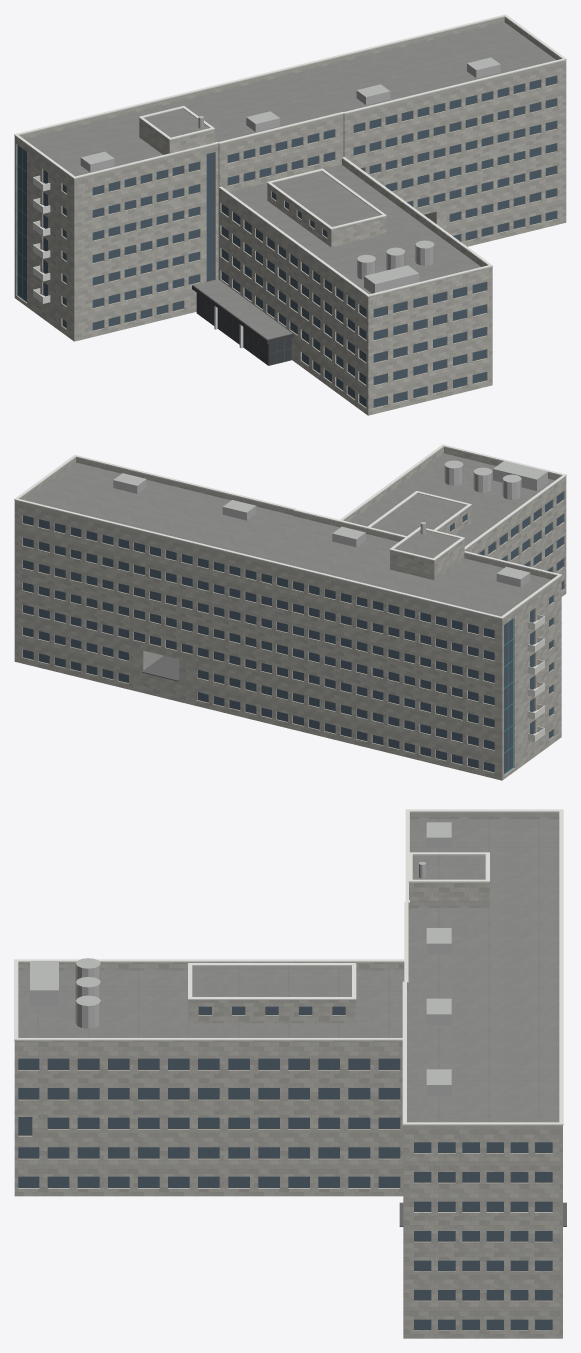
3 views of the same model, one above another, from view 1: azimuth 30°, elevation 25°; view 2: azimuth 150°, elevation 25°; view 3: azimuth 270°, elevation 25° (orthographic). The views are drawn at different scales.
Visible parts, largest first — view 1: engineering__stone, engineering__roof, engineering__glass, engineering__trim, engineering__frame, engineering__plant, engineering__glassLobby, engineering__lobbyTrim; view 2: engineering__stone, engineering__roof, engineering__glass, engineering__trim, engineering__plant, engineering__frame, engineering__road; view 3: engineering__stone, engineering__roof, engineering__glass, engineering__trim, engineering__plant, engineering__frame.
Boxes of the visible parts, x1,y1,x2,y2 form: engineering__stone: (14, 17, 566, 415); engineering__roof: (25, 22, 555, 339); engineering__glass: (18, 75, 556, 407); engineering__trim: (14, 14, 566, 348); engineering__frame: (43, 77, 556, 407); engineering__plant: (80, 57, 500, 293); engineering__glassLobby: (196, 293, 291, 365); engineering__lobbyTrim: (192, 279, 293, 343); engineering__stone: (14, 447, 566, 780); engineering__roof: (25, 453, 554, 616); engineering__glass: (23, 492, 563, 773); engineering__trim: (14, 444, 566, 741); engineering__plant: (113, 460, 547, 587); engineering__frame: (23, 491, 563, 772); engineering__road: (142, 656, 179, 681); engineering__stone: (14, 812, 562, 1338); engineering__roof: (18, 819, 559, 1122); engineering__glass: (18, 1006, 552, 1329); engineering__trim: (14, 809, 563, 1125); engineering__plant: (30, 822, 451, 1095); engineering__frame: (18, 1006, 552, 1330).
Size of the model in its own units: 90.4 by 32.5 by 66.2.
12 materials, 2 textured.
